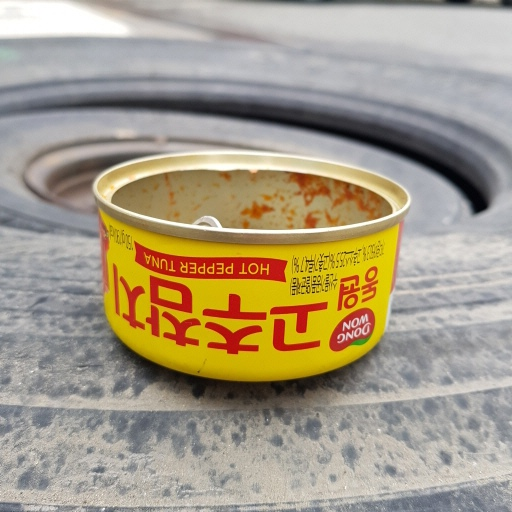Metal_1: (91, 150, 411, 385)
